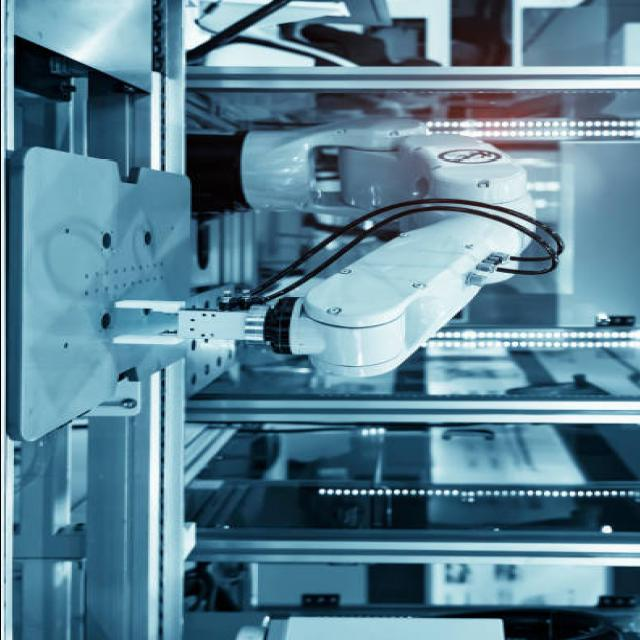Robotic-arm: (133, 118, 544, 386)
